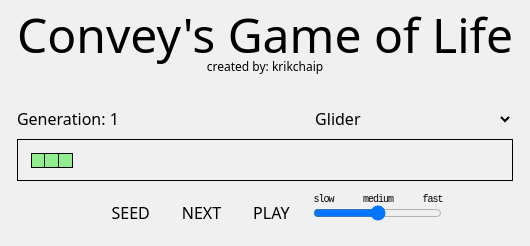
game › generation update › from changing speed during autoplay
Click the button "play" at (271, 213), box [245,197,298,229]
Wait 2000 ms
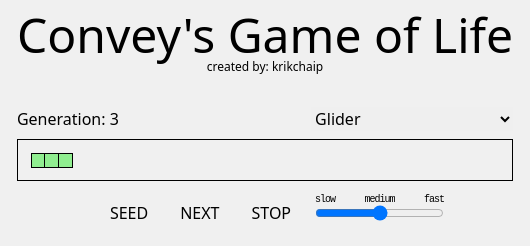
Set the slider named "select-speed" to "2" at (436, 213), box [315,205,444,221]
Wait 500 ms
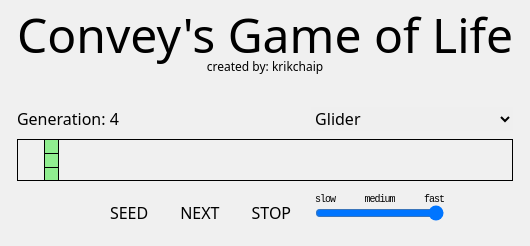
Expected: the text "Generation: 4" is shown, [17,107,119,131]
